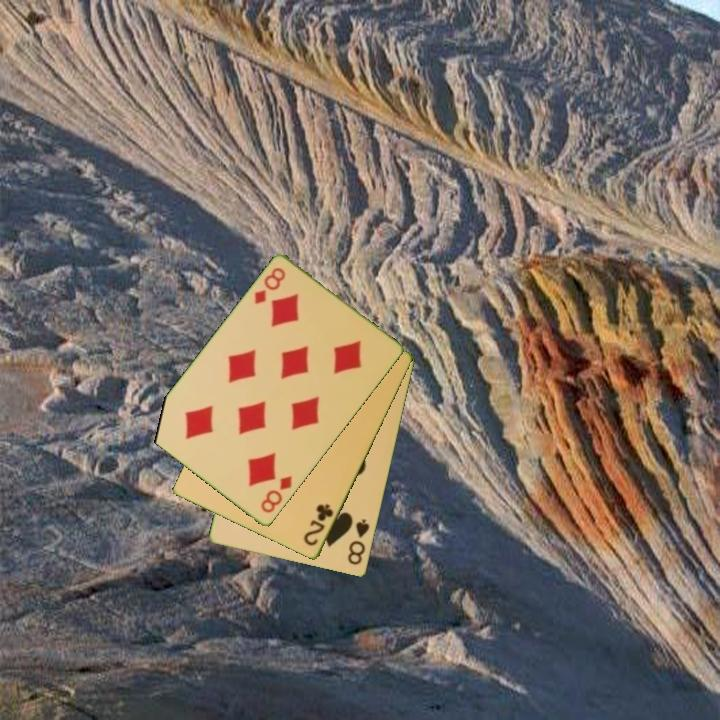2c: (300, 500, 337, 549)
8d: (257, 472, 295, 516), (251, 264, 289, 308)
8s: (344, 516, 373, 568)
